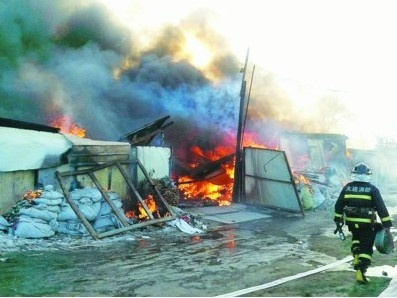fire: (176, 141, 236, 203), (50, 115, 85, 137), (22, 188, 40, 200)
